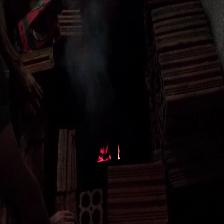fire: (99, 148, 124, 163)
smoke: (72, 11, 107, 103)
